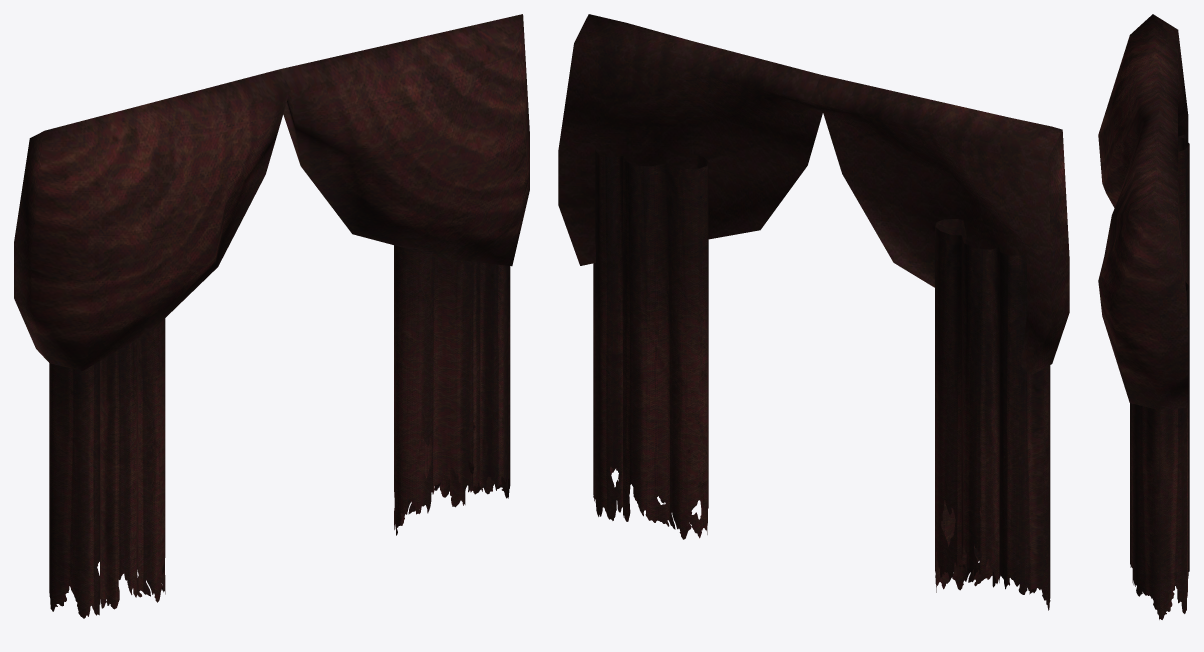
The model's file is curtain02_long_broken.dae.
3 views of the same model, side by side, from view 1: azimuth 30°, elevation 25°; view 2: azimuth 150°, elevation 25°; view 3: azimuth 270°, elevation 25° (orthographic). The views are drawn at different scales.
Visible parts, largest first — view 1: polySurface191, polySurface192; view 2: polySurface191, polySurface192; view 3: polySurface191.
Part boxes in pixels (x1=…): polySurface191: x1=14, y1=14, x2=529, y2=618; polySurface192: x1=68, y1=420, x2=494, y2=594; polySurface191: x1=558, y1=14, x2=1069, y2=610; polySurface192: x1=610, y1=466, x2=1030, y2=594; polySurface191: x1=1098, y1=14, x2=1189, y2=619.
Size of what is drawn, in the model's own units: 2.5 by 2.42 by 0.4673.
